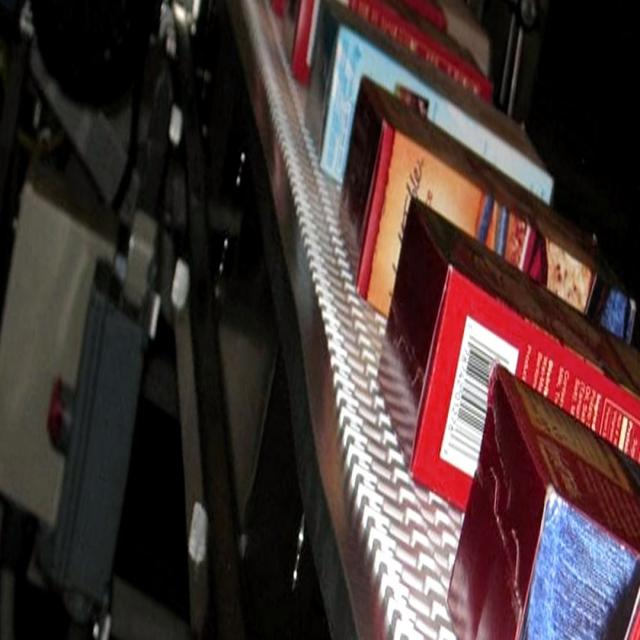food: (376, 195, 638, 514), (445, 362, 639, 638)
